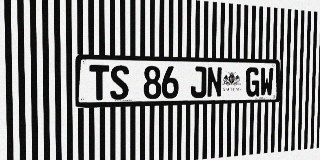6: (162, 66, 179, 99)
8: (144, 66, 161, 99)
G: (246, 67, 260, 97)
J: (190, 66, 206, 98)
N: (207, 67, 222, 98)
S: (110, 65, 129, 100)
T: (89, 65, 109, 100)
W: (260, 67, 274, 96)
